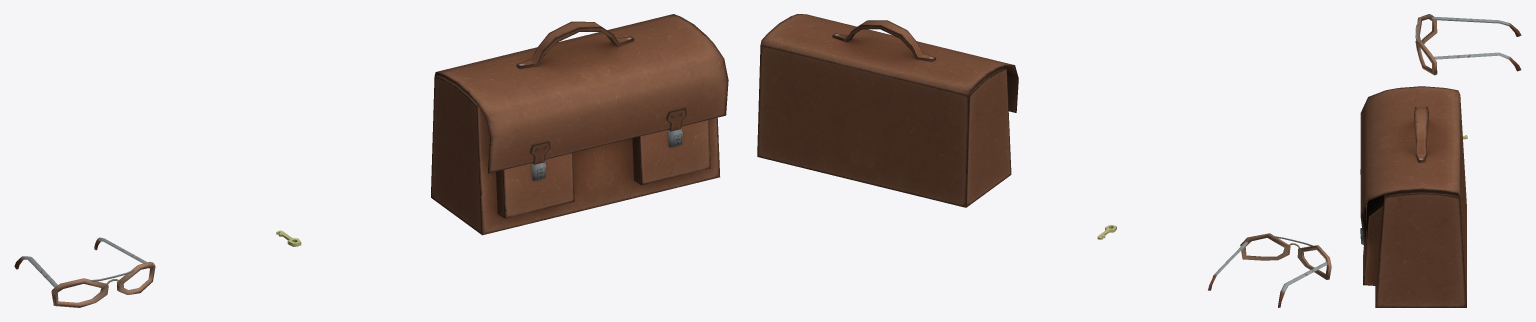
File: Teachers Items.obj
3 renders of one model, left to right at view 1: azimuth 30°, elevation 25°; view 2: azimuth 150°, elevation 25°; view 3: azimuth 270°, elevation 25°, orthographic. The views are drawn at different scales.
Visible parts, largest first — view 1: Teachers_Items; view 2: Teachers_Items; view 3: Teachers_Items.
Part boxes in pixels (box(x1,y1,x2,y2)): Teachers_Items: box(14, 14, 728, 307); Teachers_Items: box(757, 14, 1331, 307); Teachers_Items: box(1360, 14, 1521, 307).
Size of the model in its own units: 6.84 by 1.68 by 1.69.
